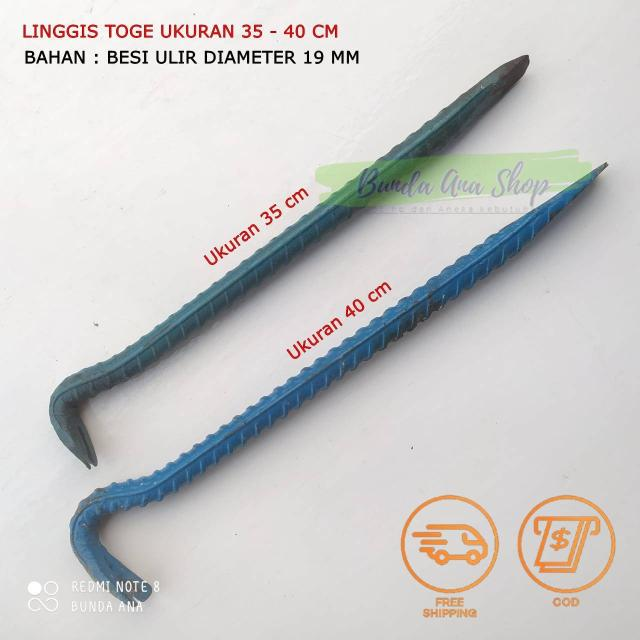Linggis: (51, 56, 535, 471)
